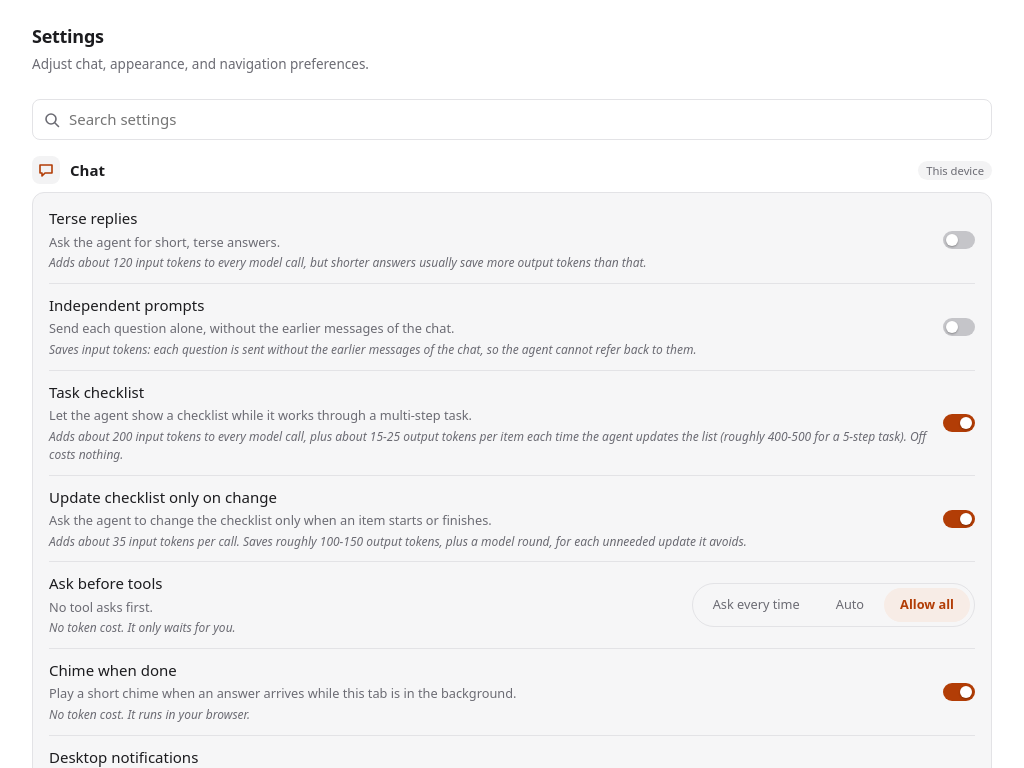
Test: SettingsView › applies checklist switches instantly and locks the lean one while the checklist is off
Step 1. Click the switch named "Task checklist" → (959, 423), box [943, 414, 975, 432]
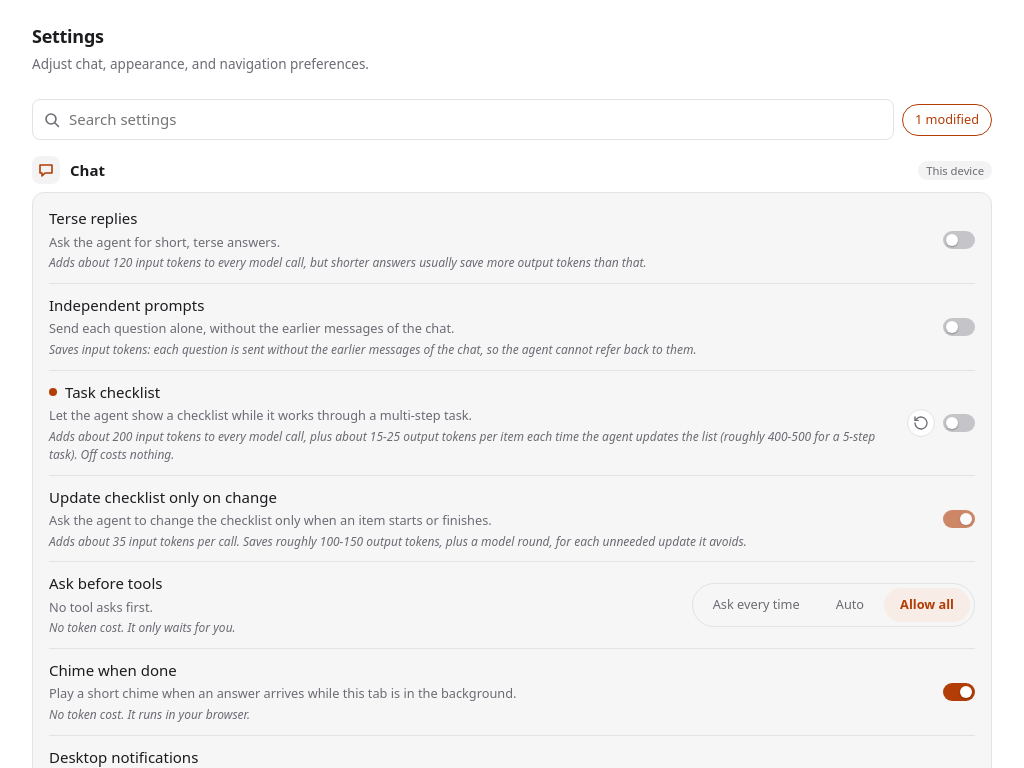
Result: the button with class "badge" reads "1 modified" at [902, 104, 992, 136]
